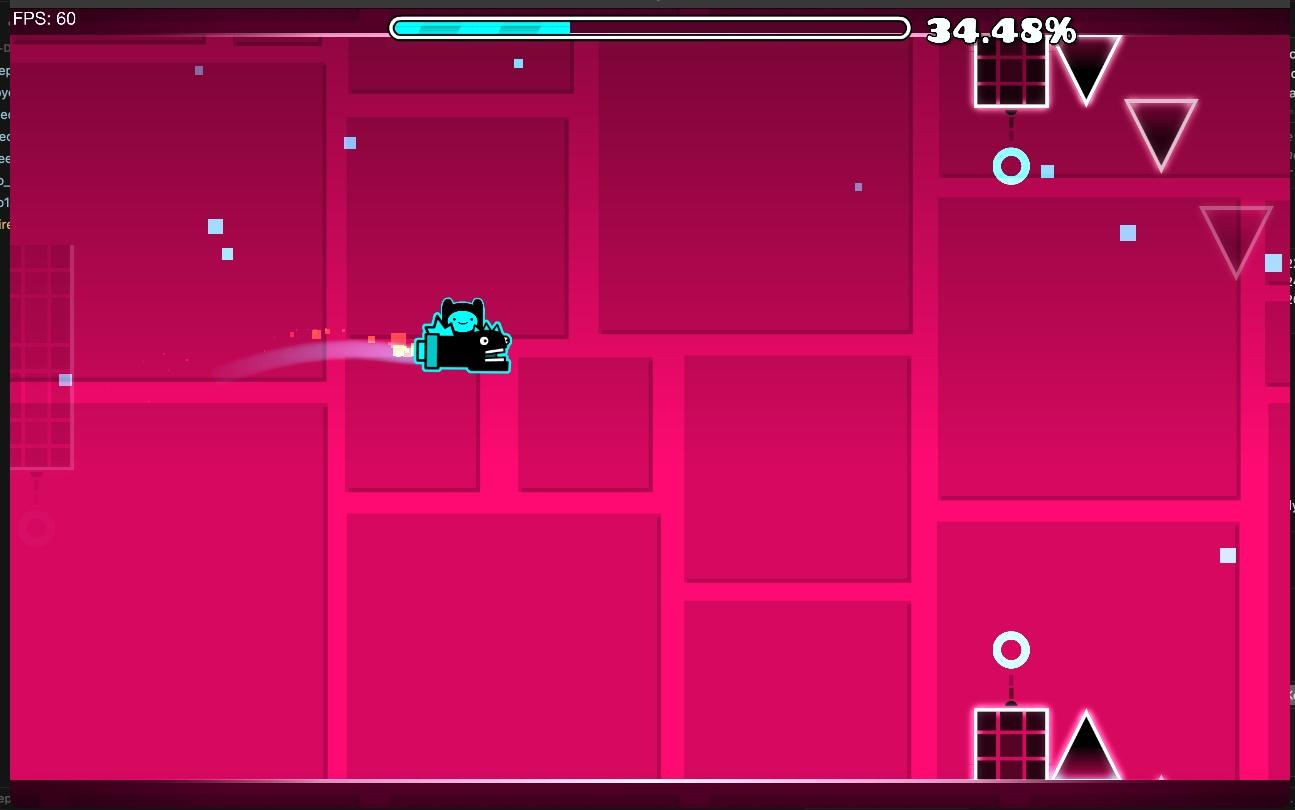block: (979, 710, 1047, 778)
spaceship: (413, 298, 511, 373)
spike: (1055, 35, 1121, 106), (1054, 710, 1120, 779)
